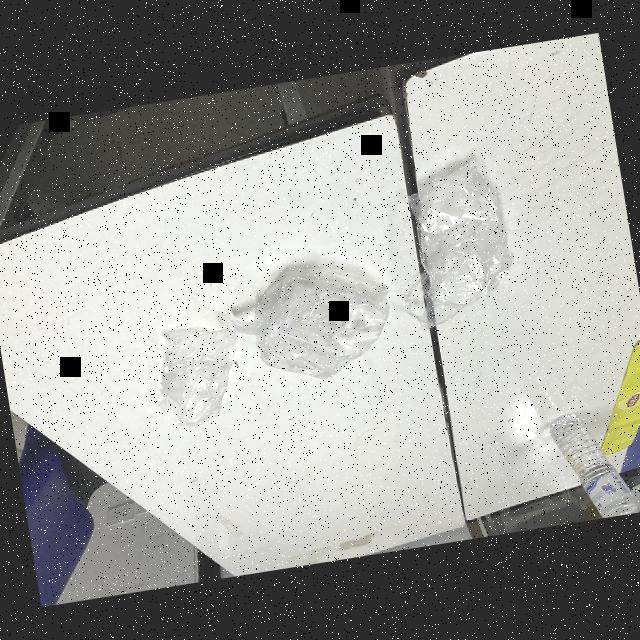plastic_bag: (226, 245, 418, 396), (389, 145, 534, 341)
scrap_plastic: (133, 321, 259, 439)
